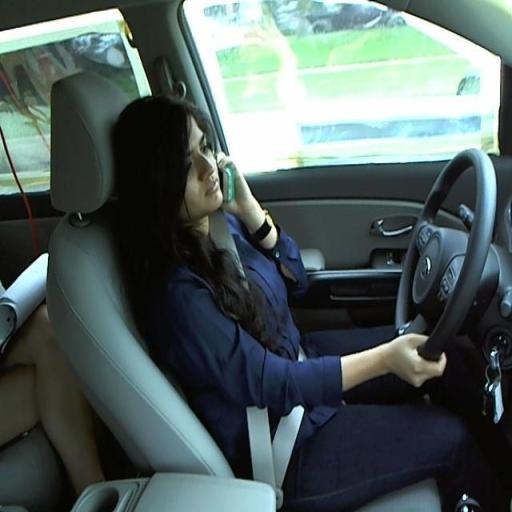talking_phone: (111, 143, 463, 424)
